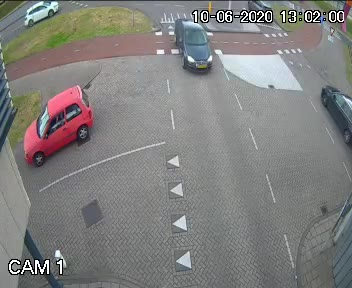car: (25, 84, 94, 163), (313, 73, 352, 144), (173, 14, 207, 83), (17, 0, 61, 27)
